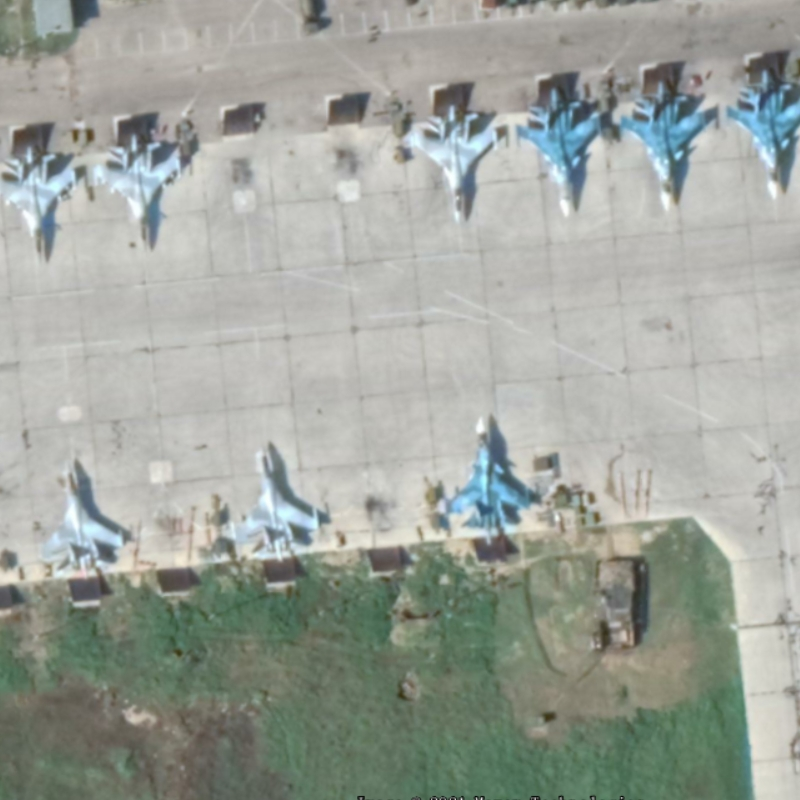A1: (228, 444, 324, 564), (408, 102, 500, 225), (39, 459, 129, 581), (92, 131, 183, 251), (1, 144, 79, 264)
A19: (616, 78, 709, 215), (514, 85, 603, 220), (453, 413, 531, 548), (724, 67, 800, 202)
